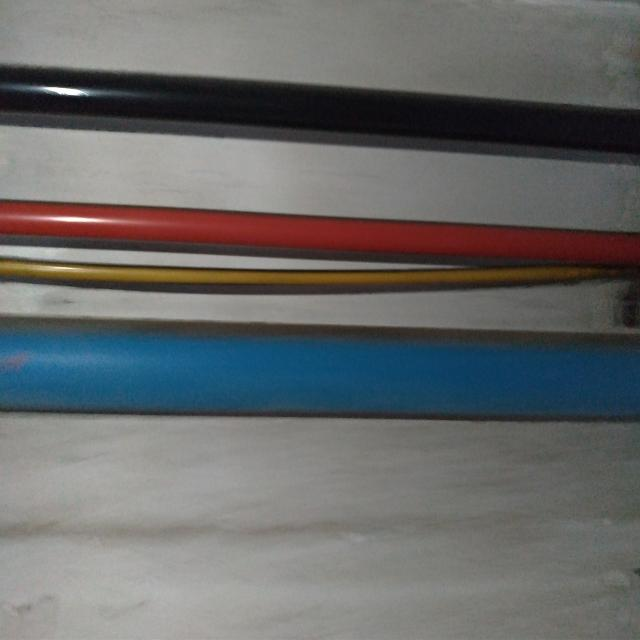gas: (0, 316, 639, 414), (5, 65, 638, 151), (3, 198, 640, 268)
